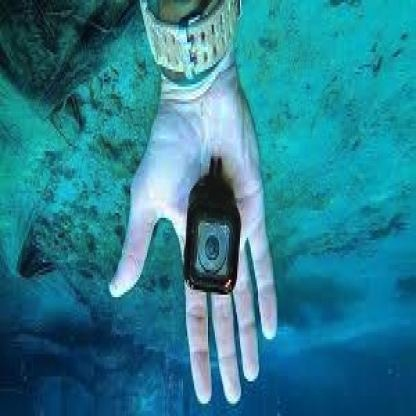electronics: (184, 181, 242, 297)
